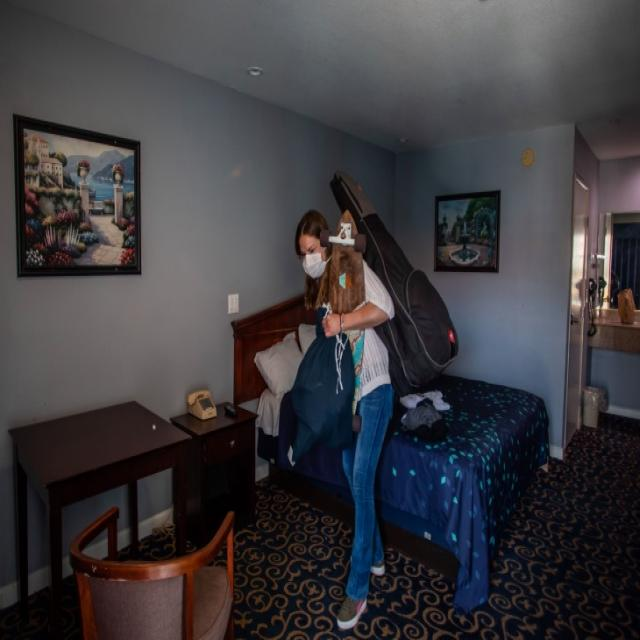adult: (295, 210, 398, 631)
